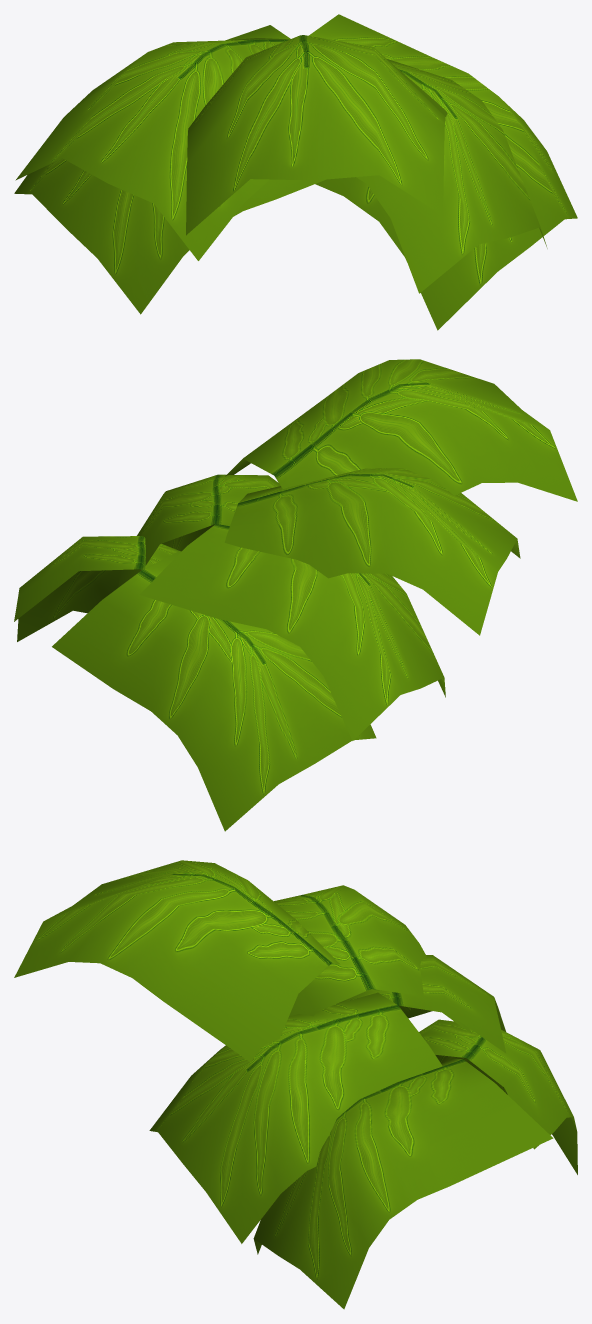
File: BambooSet_part_48.fbx
The picture shows the model from 3 angles, top to bottom: view 1: azimuth 30°, elevation 25°; view 2: azimuth 150°, elevation 25°; view 3: azimuth 270°, elevation 25°; orthographic projection. The views are drawn at different scales.
Visible parts, largest first — view 1: Object_8.001; view 2: Object_8.001; view 3: Object_8.001.
Part boxes in pixels (<box>): Object_8.001: <box>14,14,577,330</box>; Object_8.001: <box>14,359,577,831</box>; Object_8.001: <box>14,860,577,1309</box>.
Size of the model in its own units: 428 by 262 by 434.
